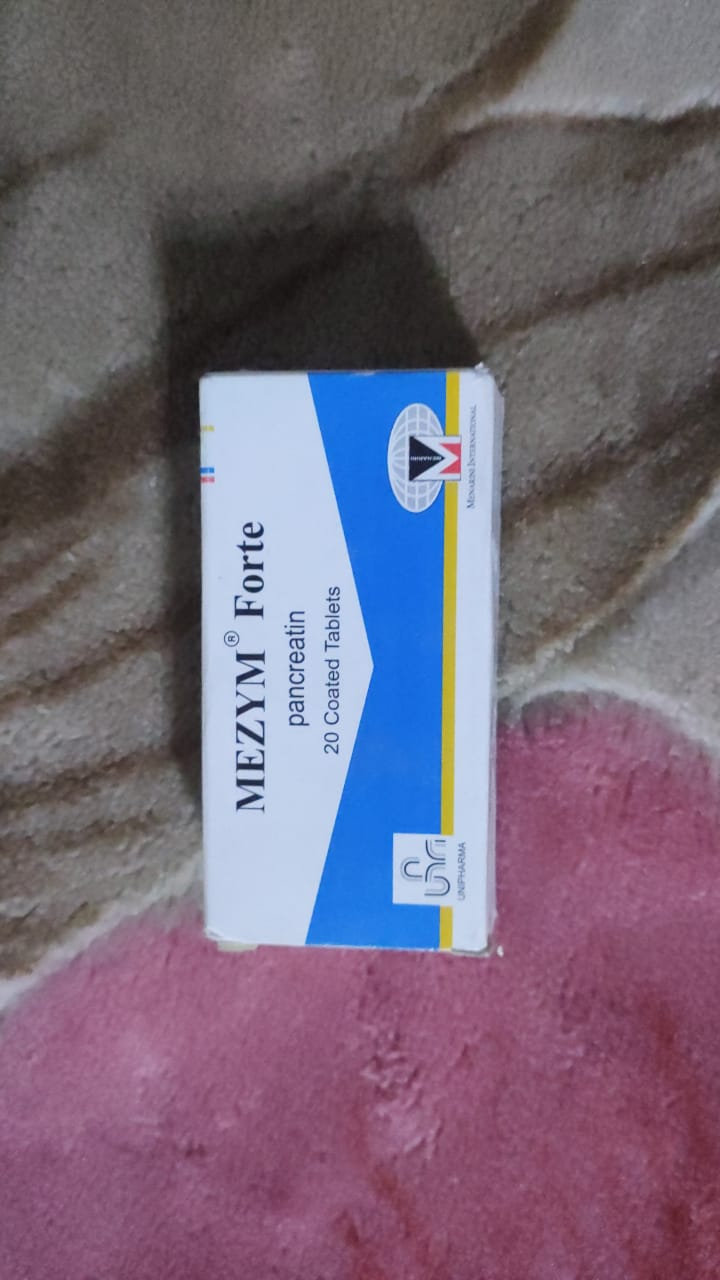Medicine: (177, 350, 530, 973)
